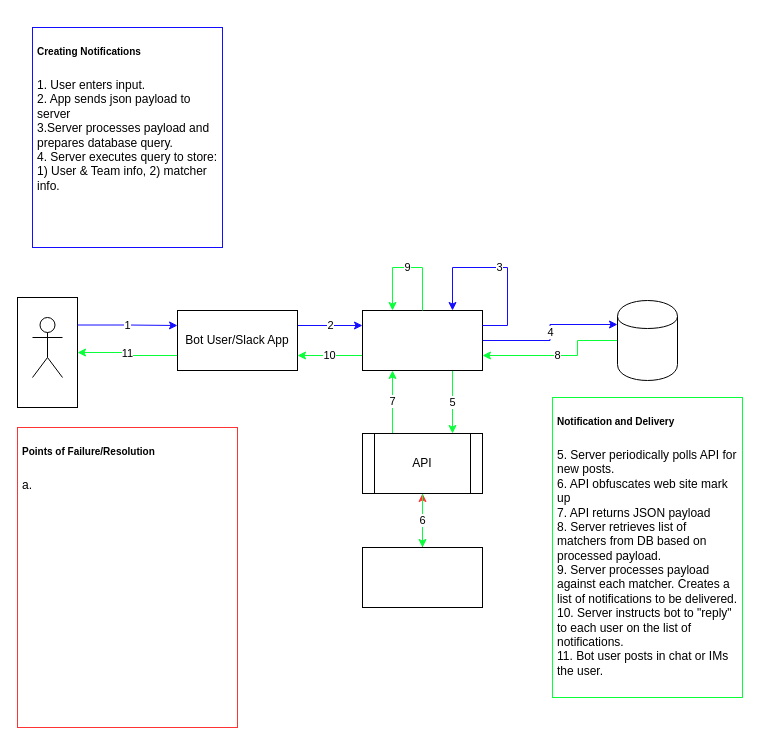
The diagram is 760 pixels wide and 745 high, and some of its shapes have lost their labels. Each missing label, with the centre of its shape:
Reddit Server: the point at 422,577
Server: the point at 422,340
User: the point at 47,347
